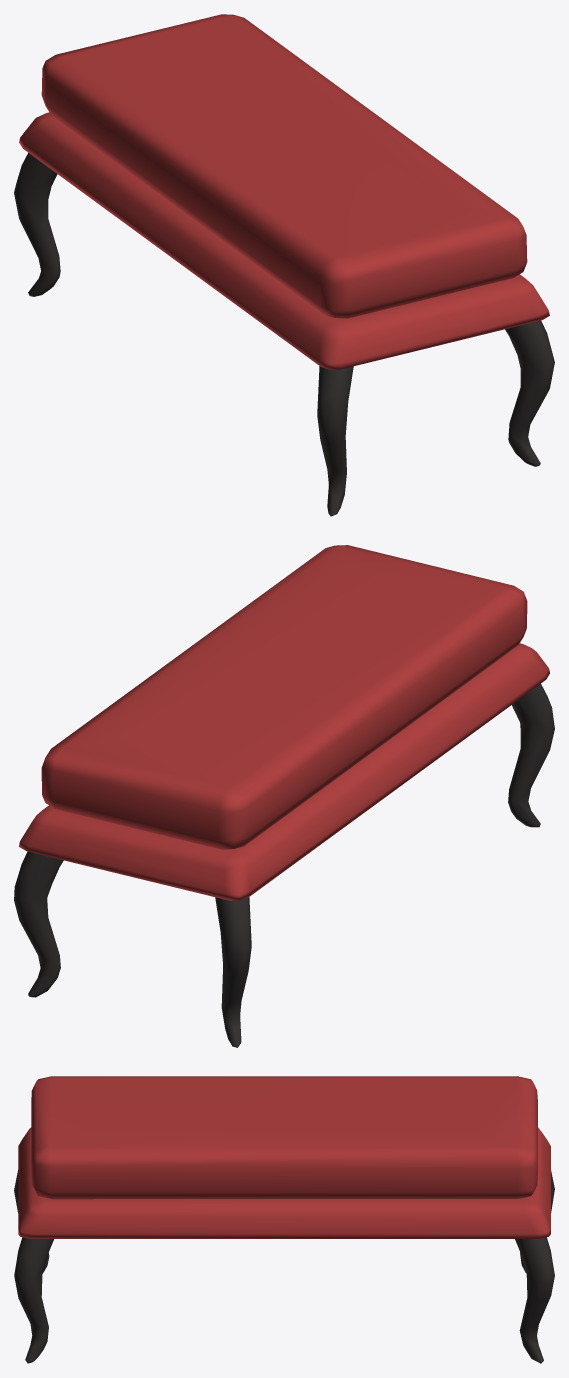
File: footstool_01_red.fbx
3 renders of one model, top to bottom at view 1: azimuth 30°, elevation 25°; view 2: azimuth 150°, elevation 25°; view 3: azimuth 270°, elevation 25°, orthographic. The views are drawn at different scales.
Visible parts, largest first — view 1: footstool_01_red; view 2: footstool_01_red; view 3: footstool_01_red.
Boxes of the visible parts, x1,y1,x2,y2 form: footstool_01_red: (14,14,554,516); footstool_01_red: (14,545,554,1047); footstool_01_red: (14,1076,554,1363).
Bounding box in the file's own units: 46.53 × 46.52 × 109.
Materials: 2 (2 with a texture image).
